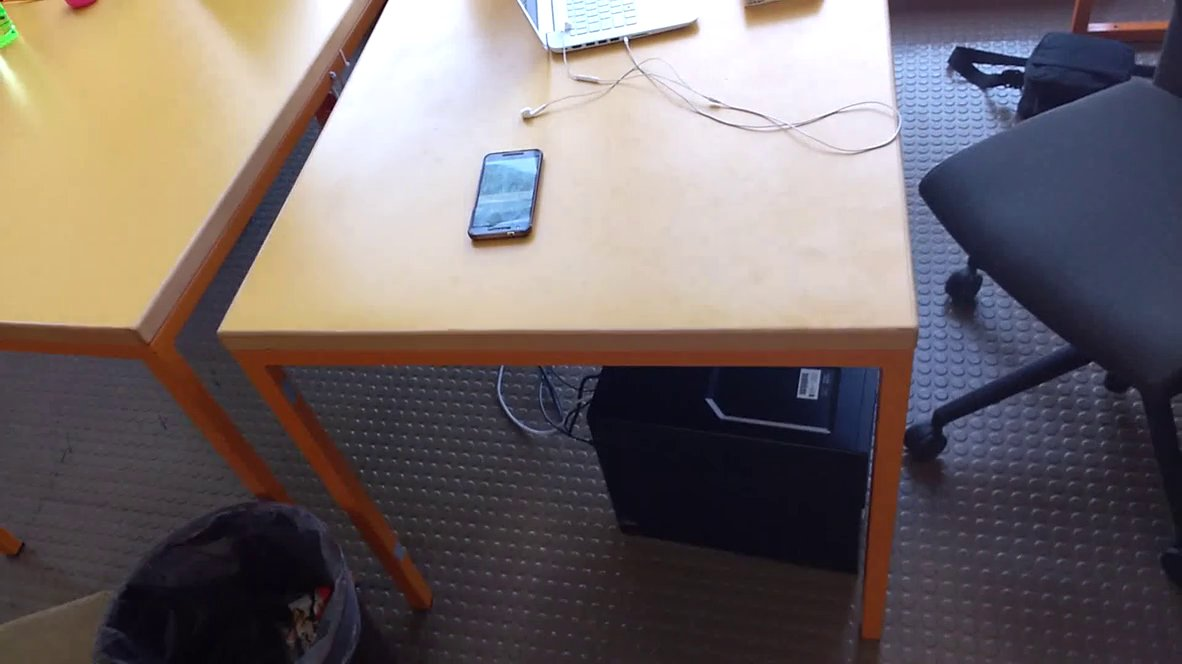bin: (72, 481, 374, 664)
phone: (463, 142, 553, 250)
